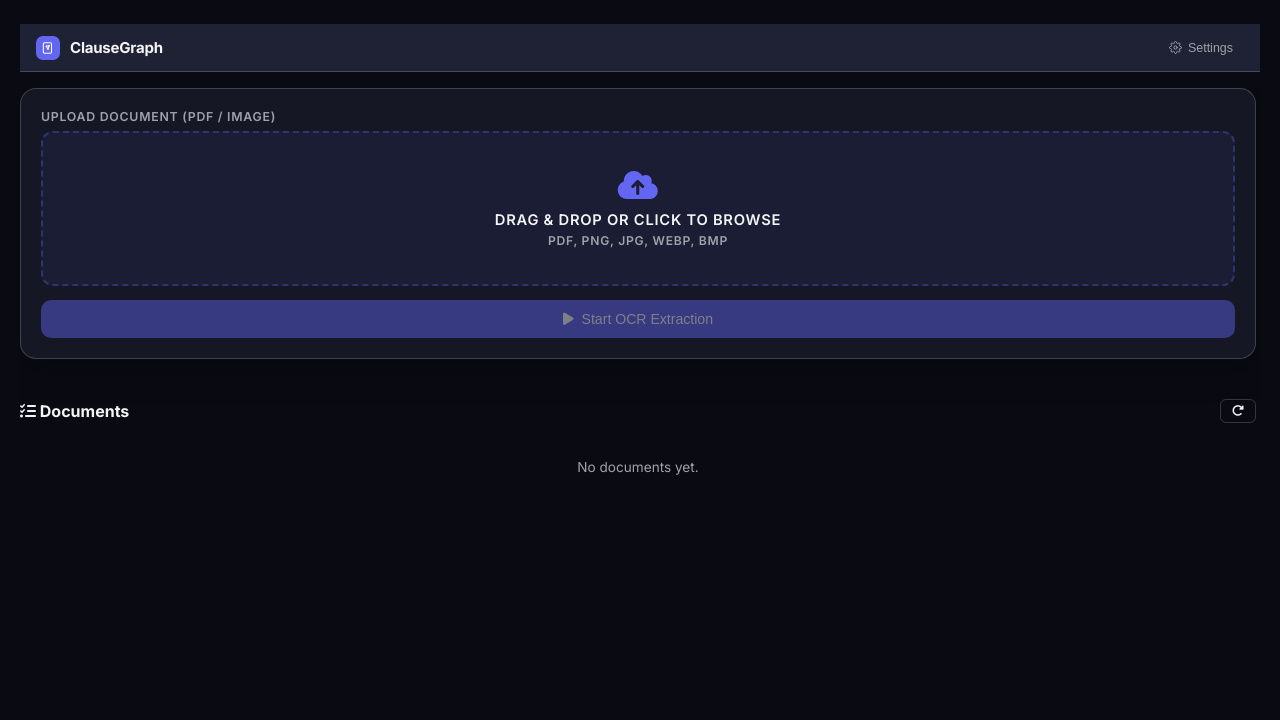
it: AppShell/StudioView — settings persistence (localStorage) › restores engine and view mode from a previously persisted settings blob
This screenshot has width=1280, height=720.
Later steps or results of the test are not shown.
Click the button with test id "open-settings-btn" at (1201, 48), box [1158,34,1244,60]
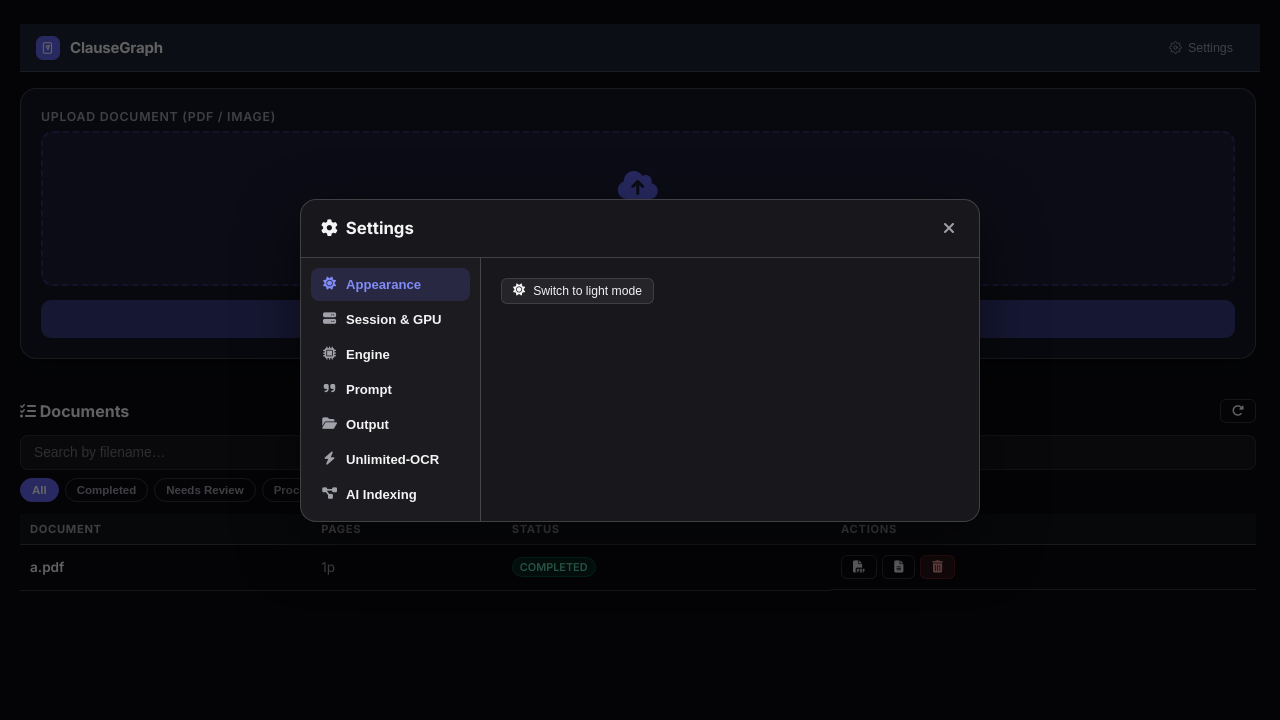
Click the button with test id "settings-nav-engine" at (390, 354), box [311,338,470,370]
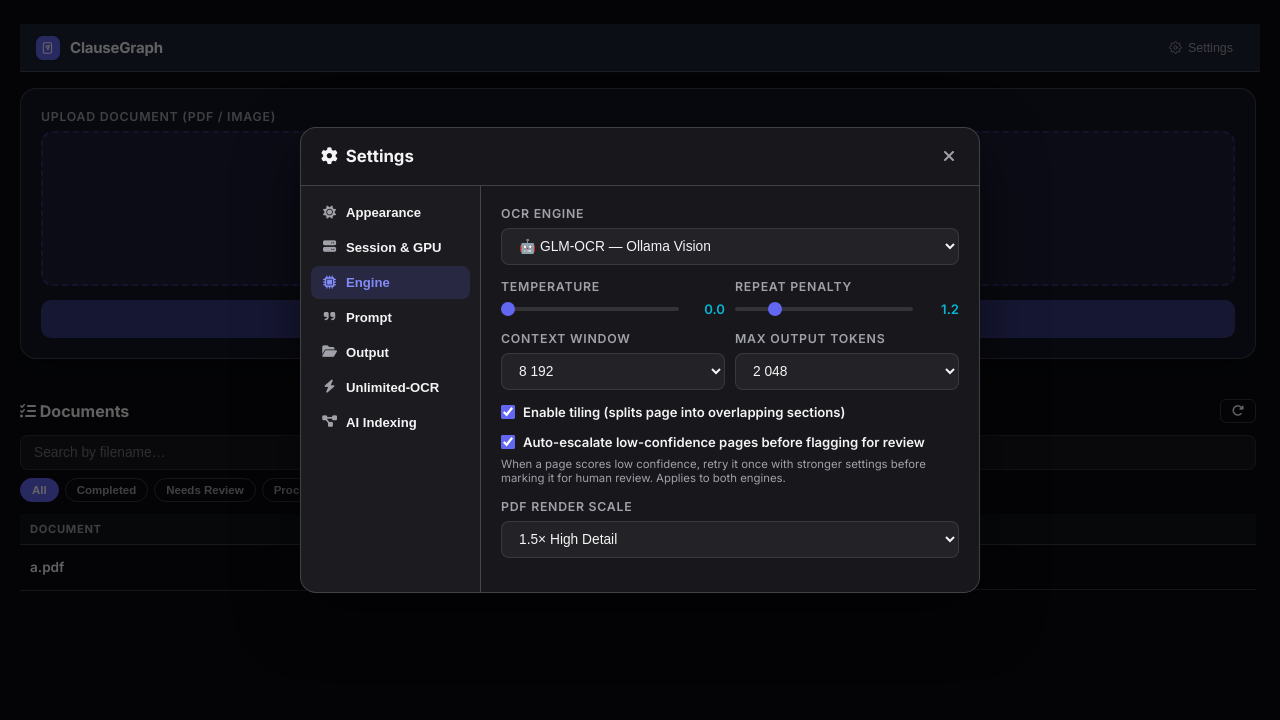
Now the dropdown with test id "engine-select" shows "🤖 GLM-OCR — Ollama Vision", box [501,228,959,265]
